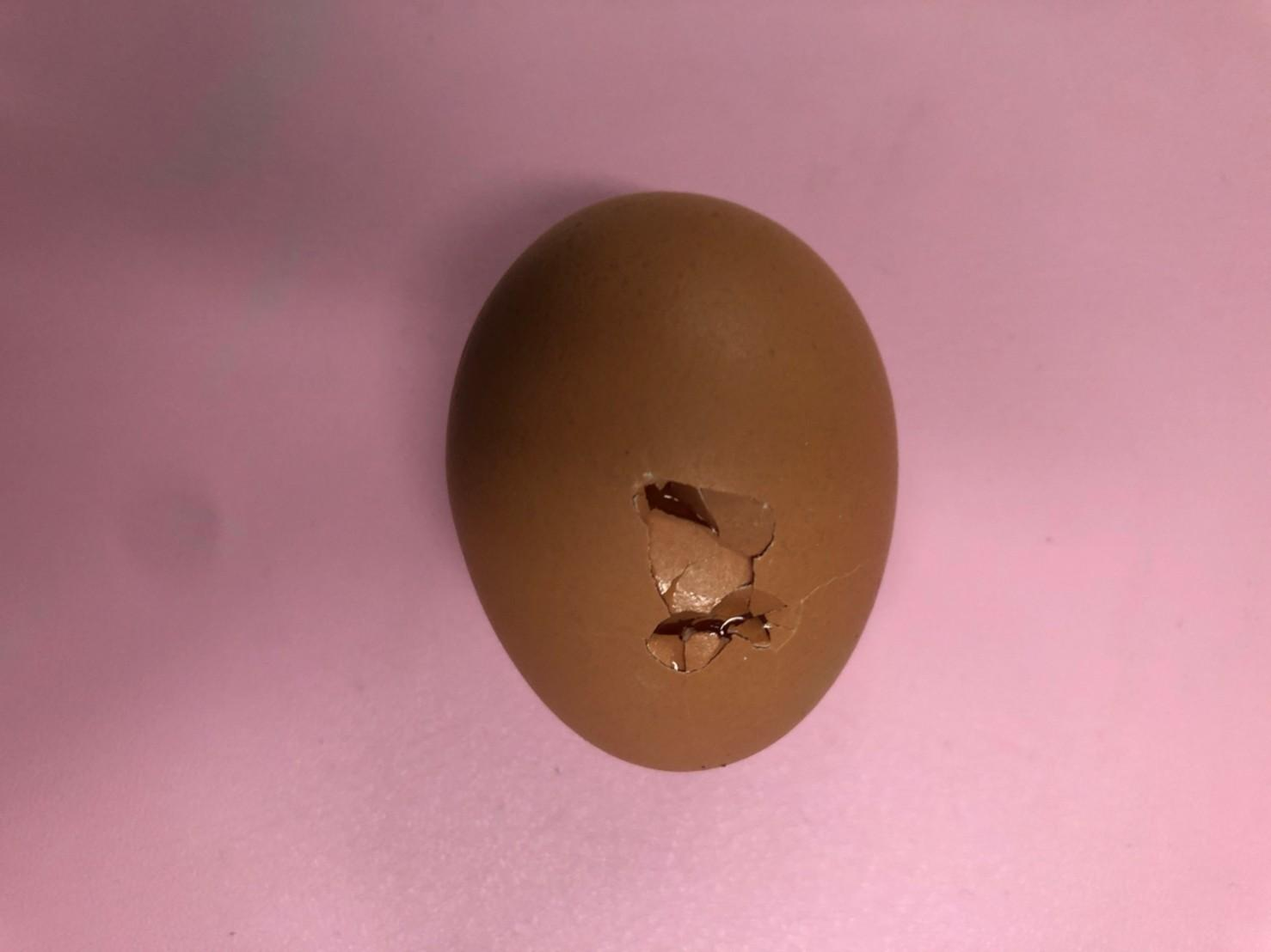egg: (435, 185, 905, 777)
